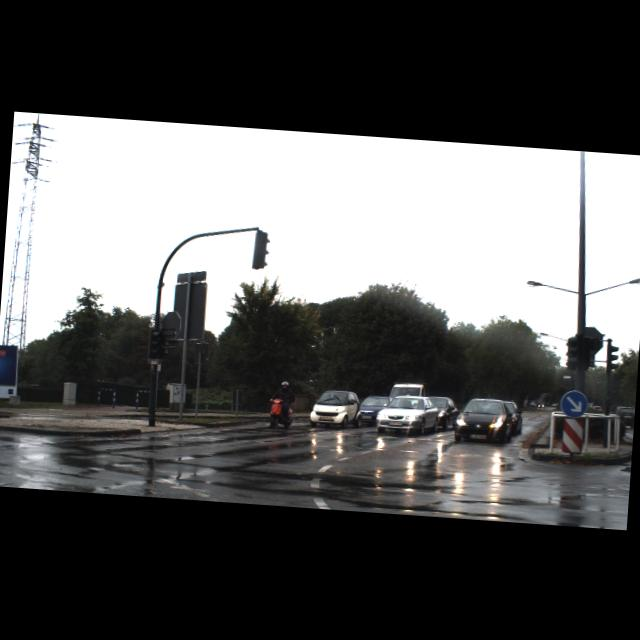mandatory: (560, 388, 588, 418)
